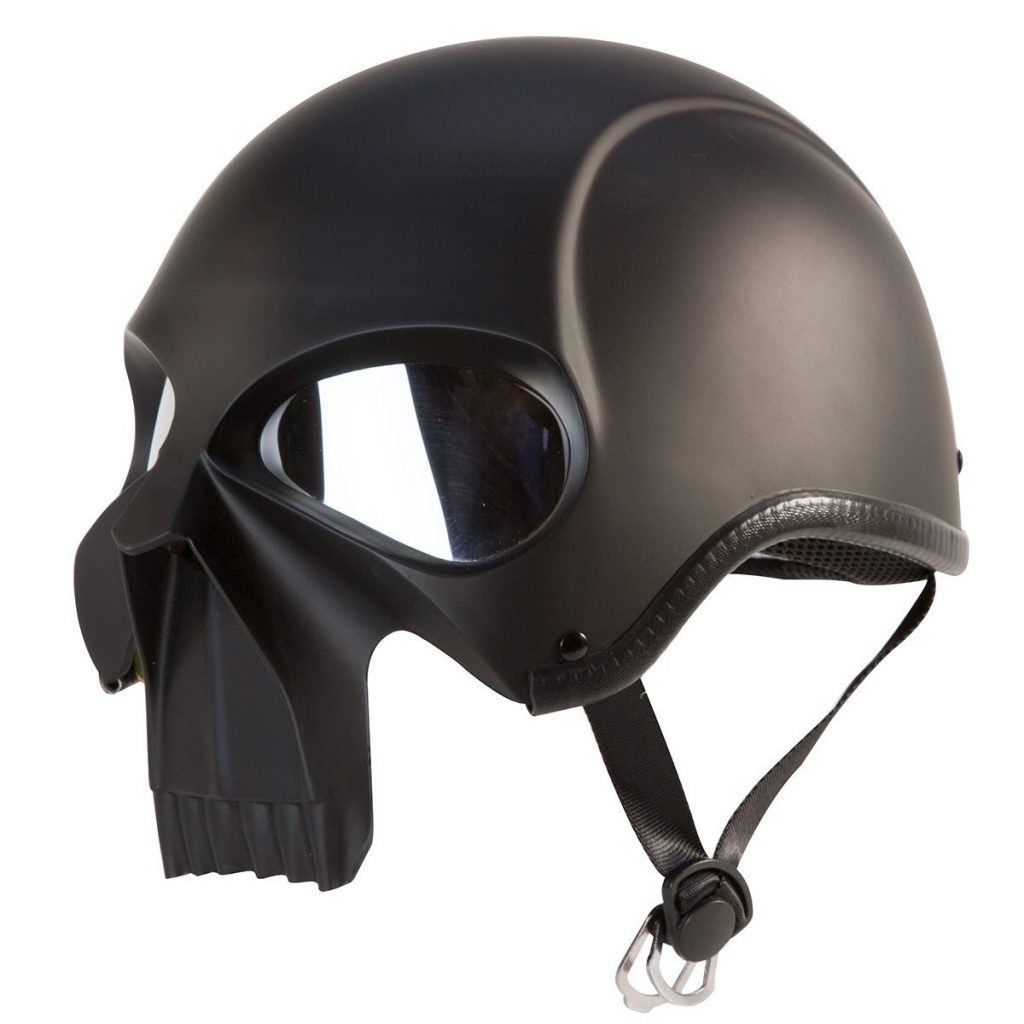with_helmet: (61, 26, 982, 900)
